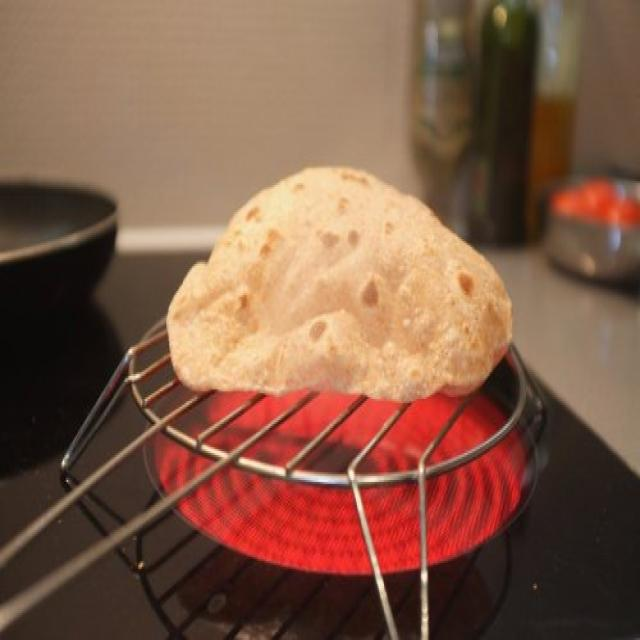roti: (166, 165, 513, 395)
